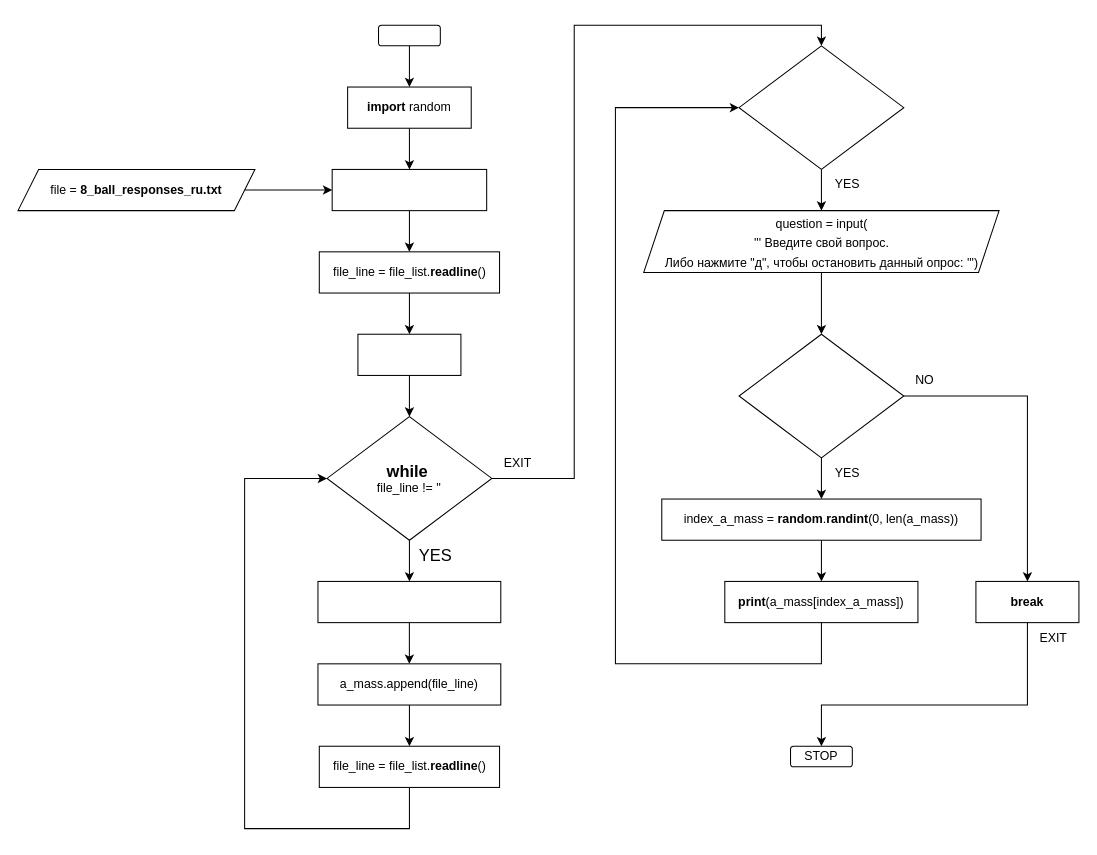
This 1097x855 diagram has some shape labels left out. Here are the shapes that lost their labels. From the top down, the box of each, then its label:
(377, 24, 440, 46): START
(738, 45, 904, 169): while True
(331, 168, 487, 211): file_list = open (r'file', 'r')
(357, 333, 461, 375): a_mass = []
(738, 333, 904, 458): if question != 'д'
(317, 580, 501, 623): file_line = file_line. rstrip ('\n')
